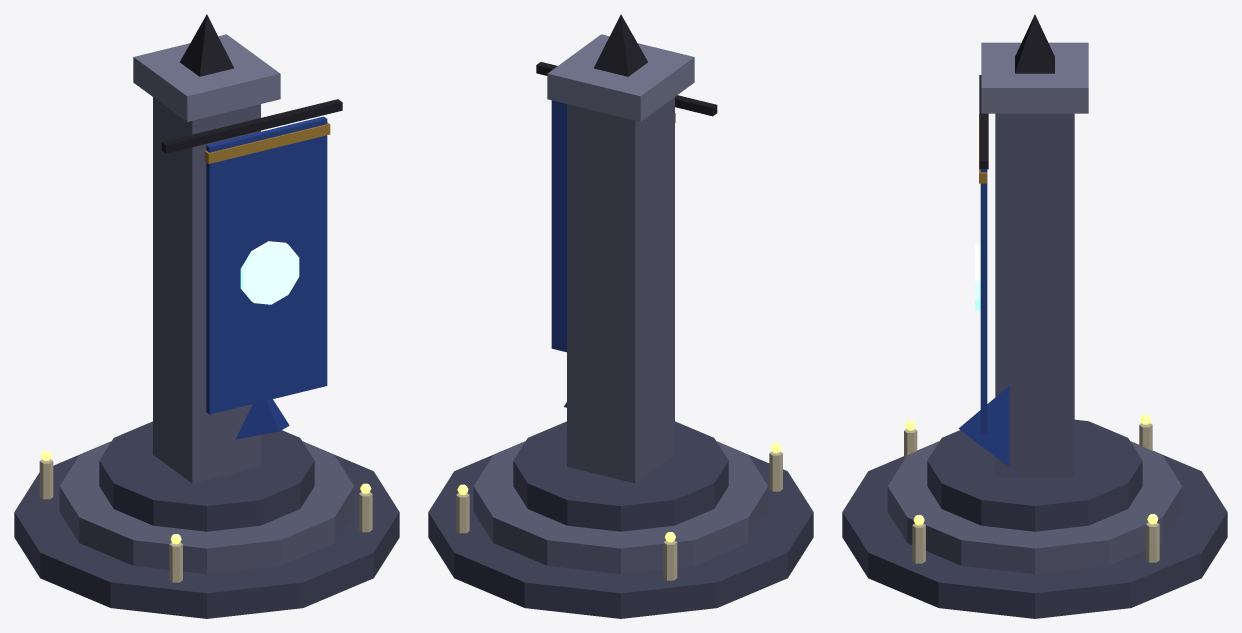
The model's file is iam-banner-standard.glb.
3 renders of one model, left to right at view 1: azimuth 30°, elevation 25°; view 2: azimuth 150°, elevation 25°; view 3: azimuth 270°, elevation 25°, orthographic.
Parts seen in each view (by area): view 1: cw_paint, cw_neon; view 2: cw_paint; view 3: cw_paint.
Part boxes in pixels (x1,y1,x2,y2): cw_paint: [14, 14, 399, 618]; cw_neon: [240, 241, 299, 304]; cw_paint: [428, 14, 813, 618]; cw_paint: [842, 14, 1227, 618].
Bounding box in the file's own units: 3.4 × 5.1 × 3.4.
